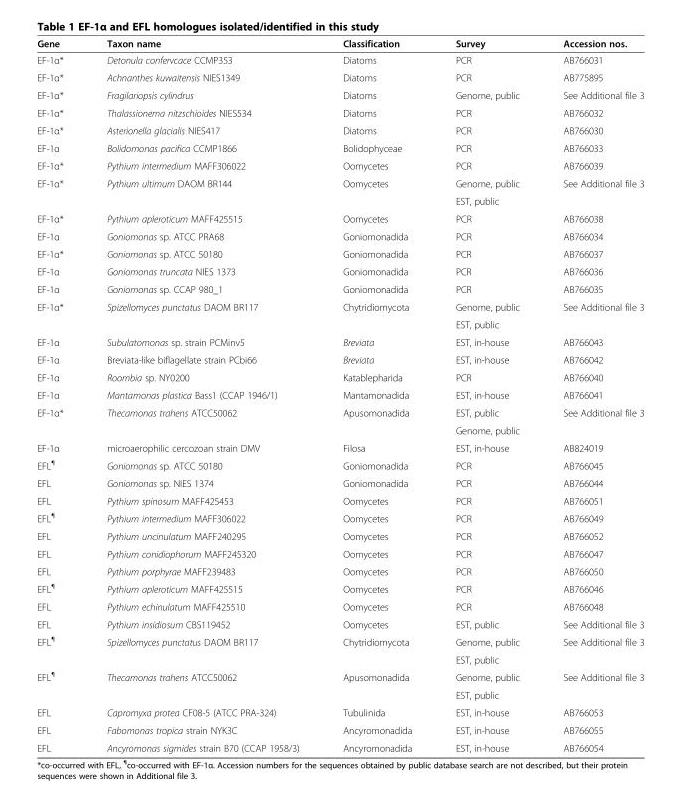table: (36, 37, 643, 753)
table column: (84, 37, 320, 753), (320, 37, 433, 753), (433, 37, 540, 753), (540, 37, 643, 753), (36, 37, 84, 753)
table column header: (36, 37, 643, 50)
table row: (36, 455, 643, 474), (36, 508, 643, 527), (36, 67, 643, 85), (36, 85, 643, 103), (36, 120, 643, 138), (36, 138, 643, 156), (36, 173, 643, 191), (36, 191, 643, 209), (36, 226, 643, 244), (36, 261, 643, 279), (36, 279, 643, 297), (36, 297, 643, 315), (36, 332, 643, 350), (36, 367, 643, 385), (36, 385, 643, 403), (36, 403, 643, 421), (36, 544, 643, 562), (36, 579, 643, 597), (36, 597, 643, 615), (36, 632, 643, 650), (36, 667, 643, 685), (36, 685, 643, 703), (36, 703, 643, 721), (36, 50, 643, 67), (36, 103, 643, 120), (36, 156, 643, 173), (36, 209, 643, 226), (36, 244, 643, 261), (36, 315, 643, 332), (36, 350, 643, 367), (36, 421, 643, 438), (36, 438, 643, 455), (36, 474, 643, 491), (36, 491, 643, 508), (36, 527, 643, 544), (36, 562, 643, 579), (36, 615, 643, 632), (36, 650, 643, 667), (36, 721, 643, 738), (36, 738, 643, 753), (36, 37, 643, 50)
table spanning cell: (84, 173, 320, 209), (84, 667, 320, 703), (84, 297, 320, 332), (84, 403, 320, 438), (84, 632, 320, 667), (320, 173, 433, 209), (320, 667, 433, 703), (320, 297, 433, 332), (320, 403, 433, 438), (320, 632, 433, 667), (540, 173, 643, 209), (540, 667, 643, 703), (540, 297, 643, 332), (540, 403, 643, 438), (540, 632, 643, 667), (36, 173, 84, 209), (36, 667, 84, 703), (36, 297, 84, 332), (36, 403, 84, 438), (36, 632, 84, 667)
